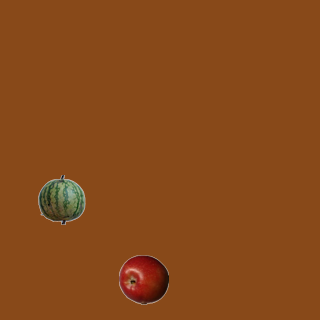Apple Braeburn: (118, 254, 168, 304)
Watermelon: (36, 174, 86, 224)
